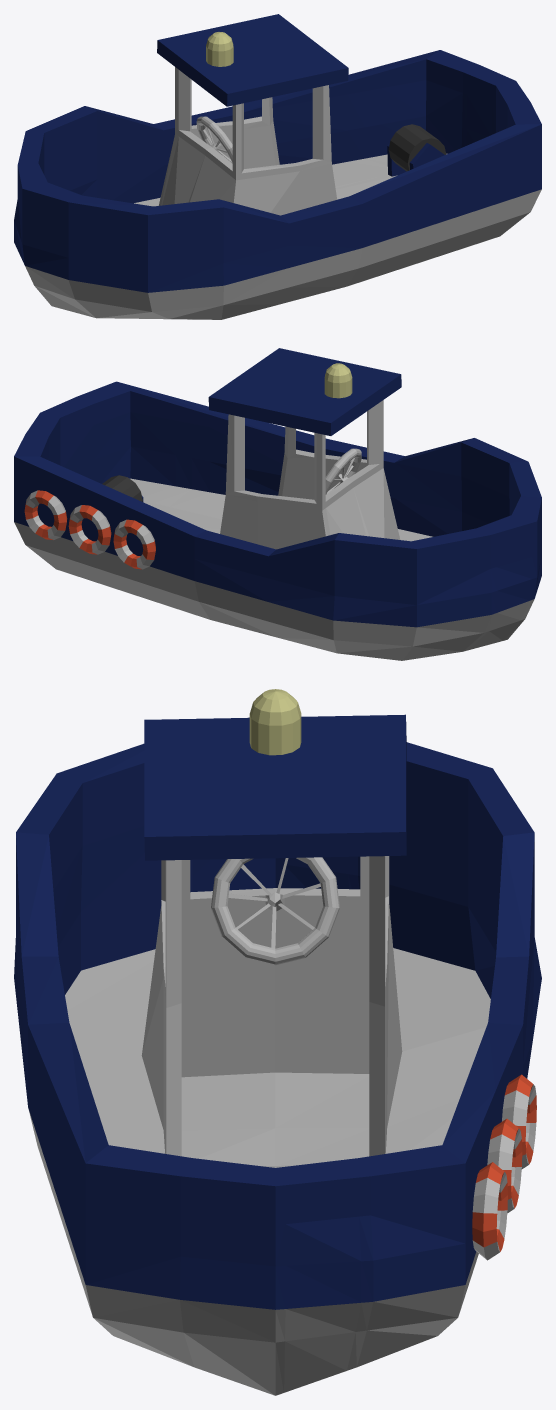
Rendered from Motorboot.fbx.
3 renders of one model, top to bottom at view 1: azimuth 30°, elevation 25°; view 2: azimuth 150°, elevation 25°; view 3: azimuth 270°, elevation 25°, orthographic. The views are drawn at different scales.
Parts seen in each view (by area): view 1: Boot, Dach, Röhre, Kapsel, Lenkrad; view 2: Boot, Dach, Rettungsring, Rettungsring_2, Rettungsring_1, Kapsel, Lenkrad, Röhre; view 3: Boot, Dach, Lenkrad, Kapsel, Rettungsring_2, Rettungsring_1, Rettungsring.
Part boxes in pixels (x1,y1,x2,y2): Boot: (14, 50, 541, 319); Dach: (157, 14, 348, 106); Röhre: (388, 124, 446, 171); Kapsel: (206, 32, 233, 66); Lenkrad: (196, 116, 232, 163); Boot: (14, 381, 541, 660); Dach: (208, 348, 401, 435); Rettungsring: (68, 505, 111, 554); Rettungsring_2: (24, 490, 67, 540); Rettungsring_1: (113, 519, 155, 569); Kapsel: (324, 363, 352, 398); Lenkrad: (325, 448, 361, 494); Röhre: (102, 475, 142, 501); Boot: (14, 742, 541, 1395); Dach: (144, 714, 406, 860); Lenkrad: (211, 857, 339, 965); Kapsel: (249, 689, 301, 755); Rettungsring_2: (472, 1162, 507, 1260); Rettungsring_1: (502, 1074, 536, 1169); Rettungsring: (487, 1118, 522, 1213).
Bounding box in the file's own units: 2051 × 987 × 1014.
